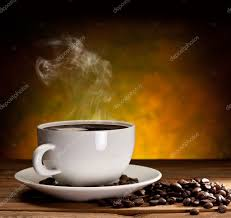cup: (19, 118, 144, 189)
